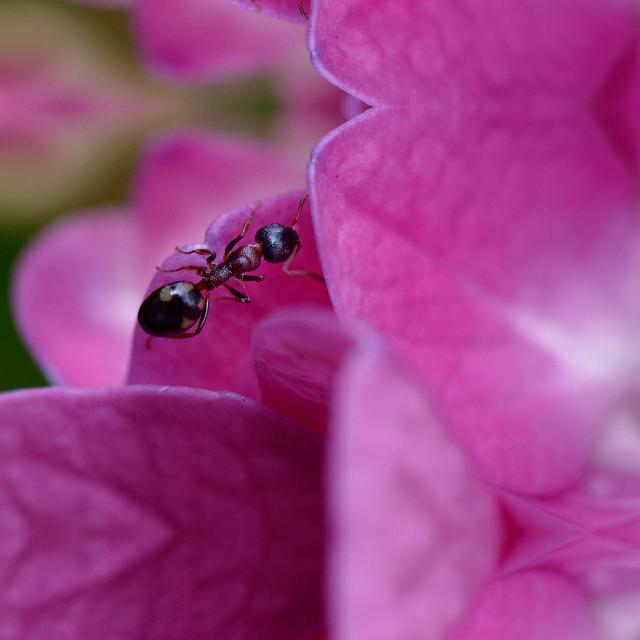Dolichoderus: (114, 202, 326, 350)
